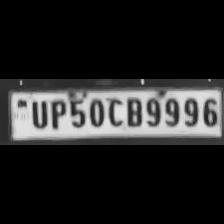0: (86, 96, 106, 128)
5: (66, 96, 86, 128)
6: (200, 95, 220, 127)
9: (181, 95, 199, 127), (162, 96, 180, 127), (144, 95, 160, 127)
B: (124, 95, 142, 127)
C: (105, 96, 123, 127)
P: (47, 97, 66, 129)
U: (28, 98, 48, 128)
